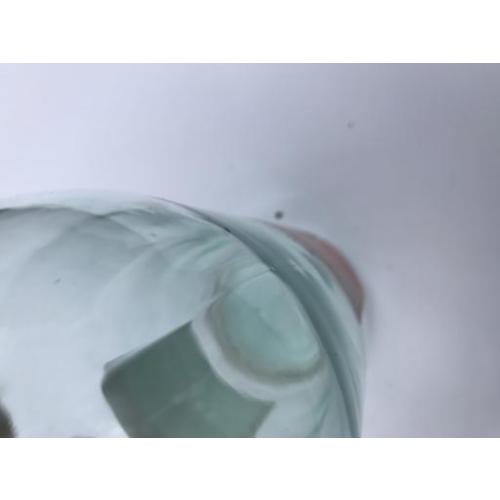glass: (0, 194, 366, 438)
